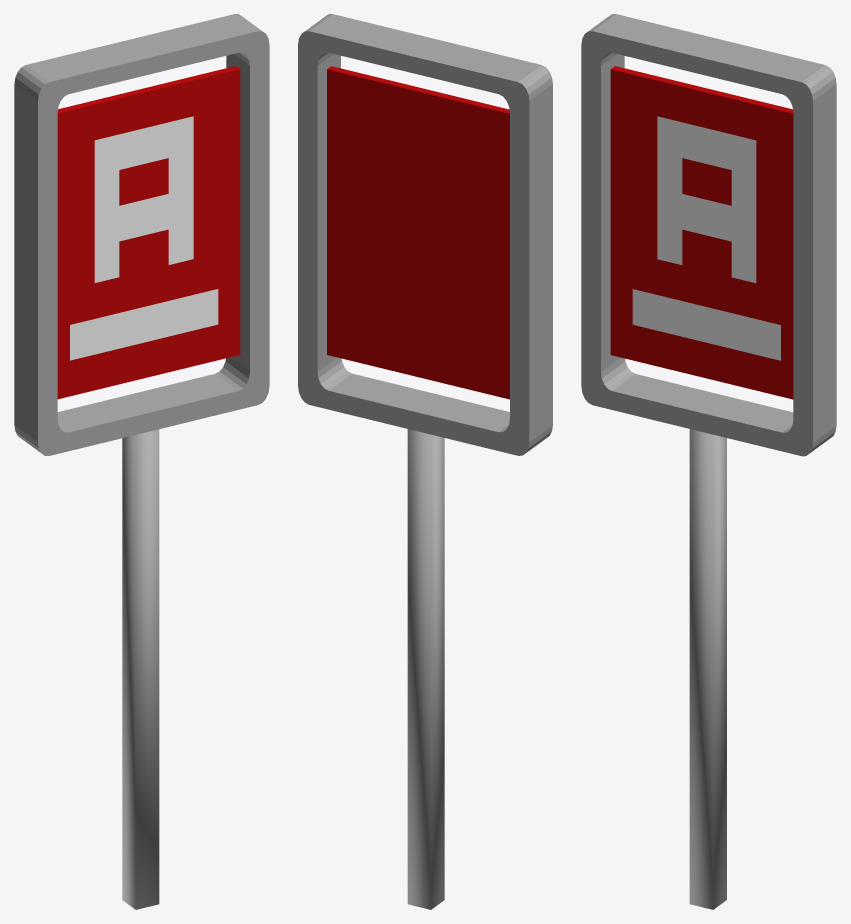
Rendered from BusStop(Red).fbx.
3 views of the same model, side by side, from view 1: azimuth 30°, elevation 25°; view 2: azimuth 150°, elevation 25°; view 3: azimuth 330°, elevation 25° (orthographic).
Parts seen in each view (by area): view 1: busStop; view 2: busStop; view 3: busStop.
Boxes of the visible parts, x1=… form: busStop: x1=14, y1=14, x2=269, y2=909; busStop: x1=298, y1=14, x2=552, y2=909; busStop: x1=581, y1=14, x2=836, y2=909.
Size of the model in its own units: 4.6 by 16.22 by 0.8099.
